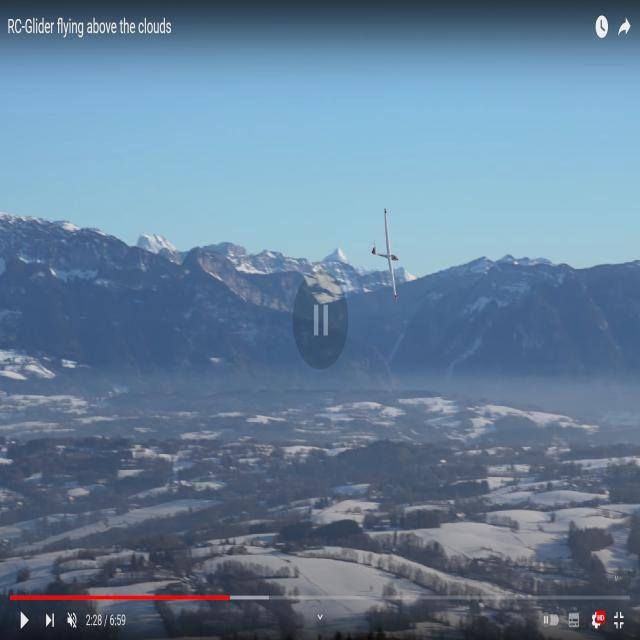iha: (367, 240, 401, 264)
